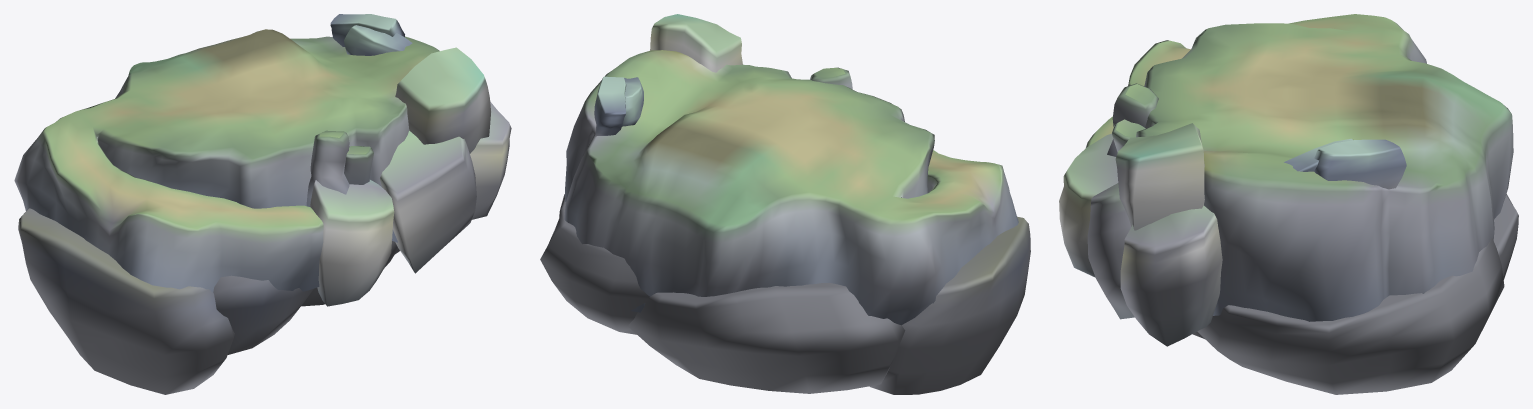
Rendered from SM_Terrain_Mesh_01.fbx.
The picture shows the model from 3 angles, left to right: view 1: azimuth 30°, elevation 25°; view 2: azimuth 150°, elevation 25°; view 3: azimuth 270°, elevation 25°; orthographic projection. The views are drawn at different scales.
Parts seen in each view (by area): view 1: Plane.004; view 2: Plane.004; view 3: Plane.004.
Boxes of the visible parts, x1,y1,x2,y2 form: Plane.004: (14,14,511,394); Plane.004: (540,14,1030,394); Plane.004: (1059,14,1518,394).
Size of the model in its own units: 4320 by 2561 by 3390.
